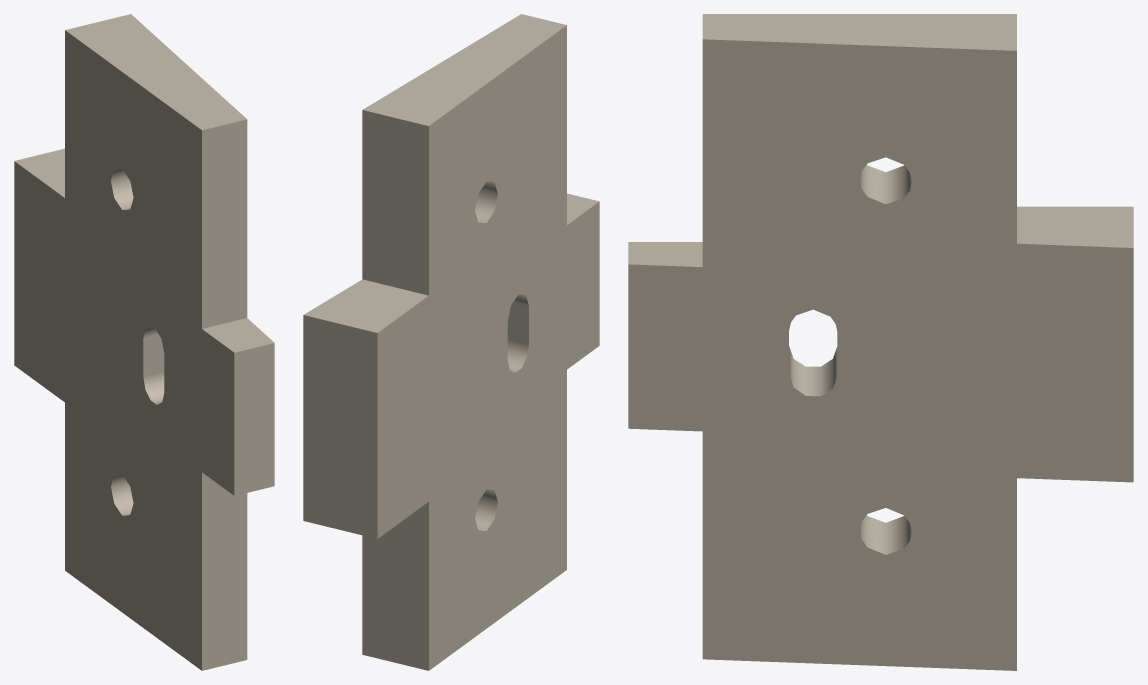
3 views of the same model, side by side, from view 1: azimuth 30°, elevation 25°; view 2: azimuth 150°, elevation 25°; view 3: azimuth 270°, elevation 25° (orthographic). The views are drawn at different scales.
Visible parts, largest first — view 1: bau0006168209; view 2: bau0006168209; view 3: bau0006168209.
Boxes of the visible parts, x1,y1,x2,y2 form: bau0006168209: [14, 14, 274, 670]; bau0006168209: [303, 14, 599, 670]; bau0006168209: [628, 14, 1133, 670].
Size of the model in its own units: 8.07 by 56.6 by 41.8.
